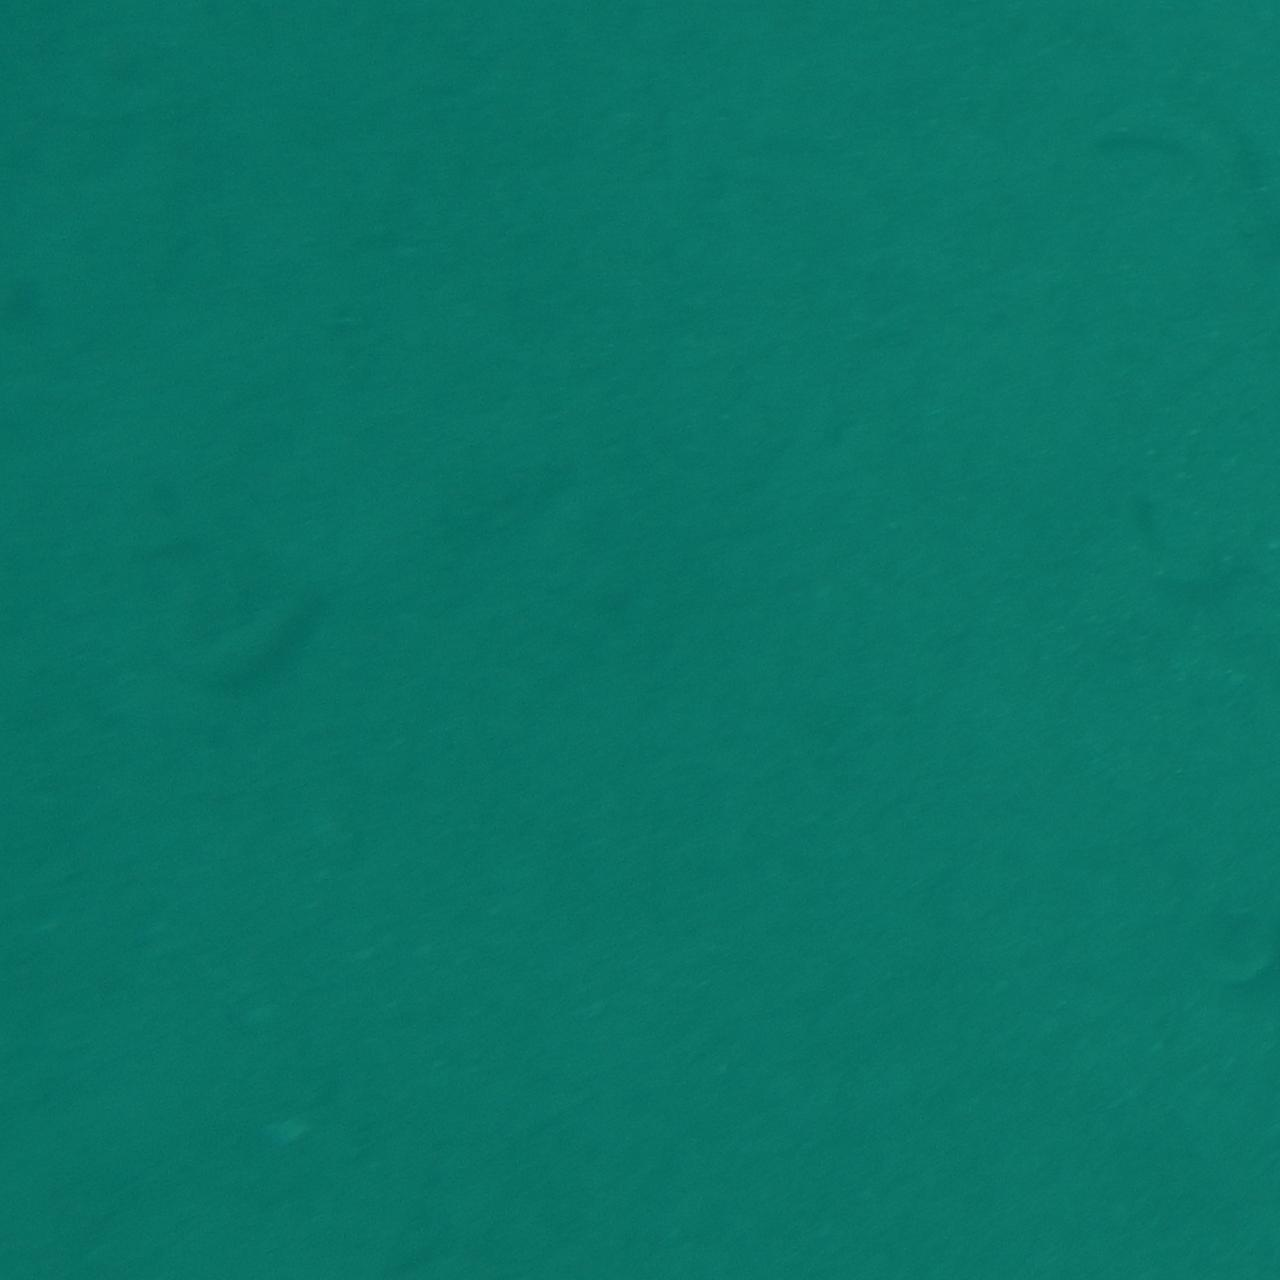Holothuria tubulosa: (127, 566, 306, 714)
